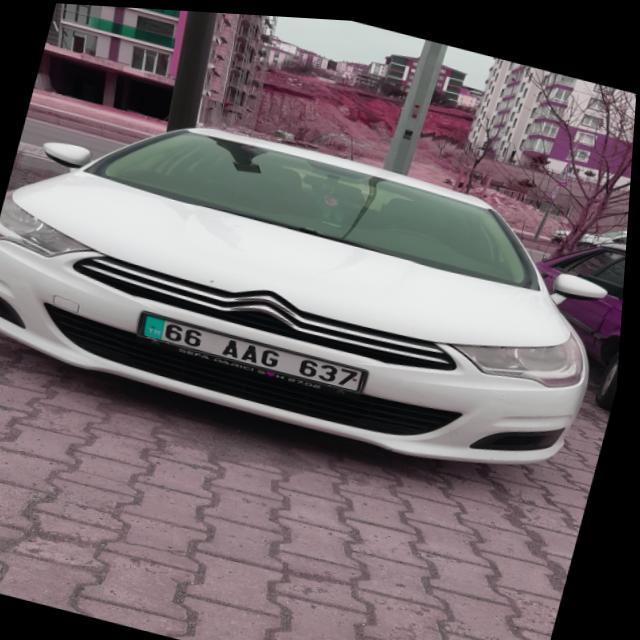license_plate: (138, 309, 376, 390)
